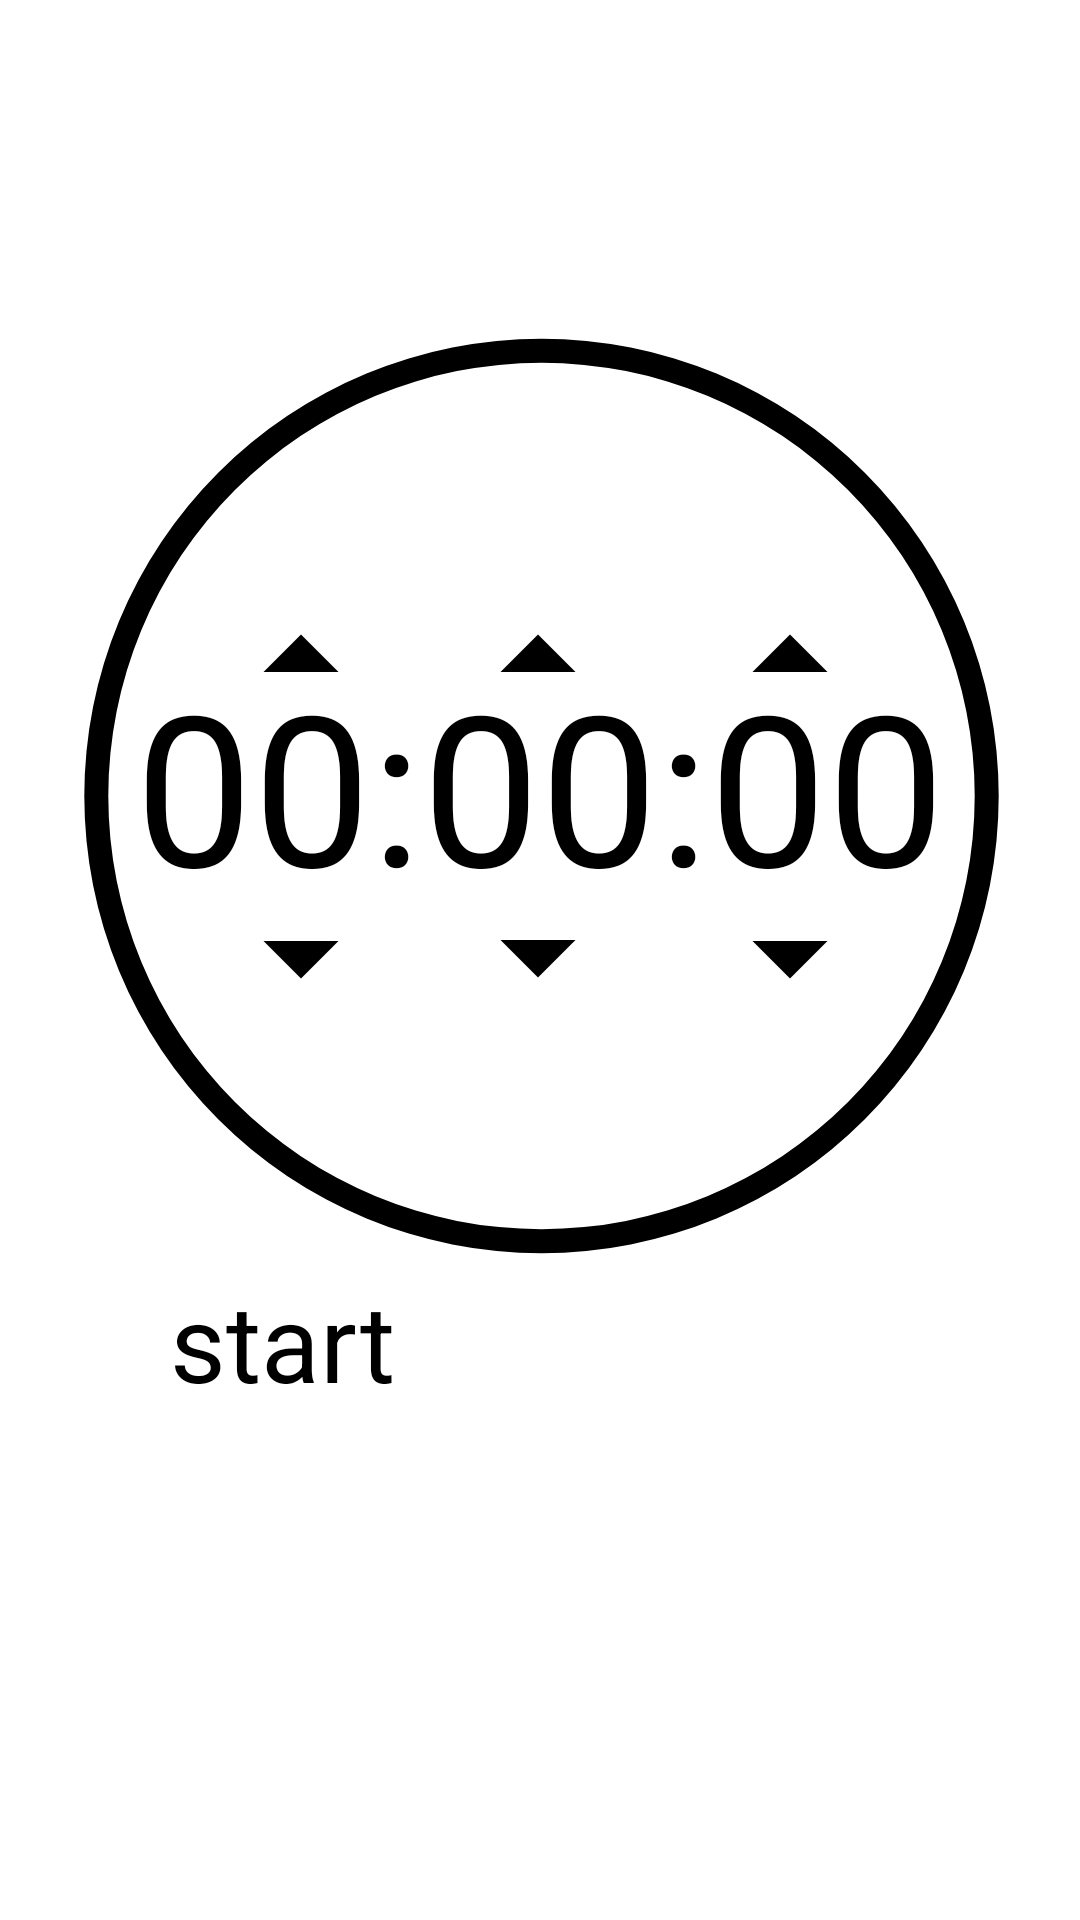

Named icons in this screenshot (1080×1920) and their bounding boxes, (x1, y1, x2, y2):
arrow drop down: (500, 940, 576, 978), (263, 941, 339, 979), (752, 941, 828, 979)
